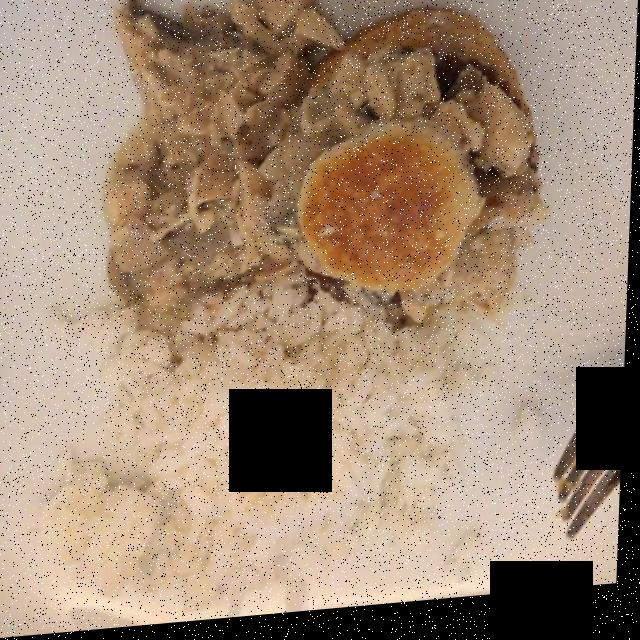chicken: (109, 0, 528, 326)
rice: (31, 291, 473, 605)
